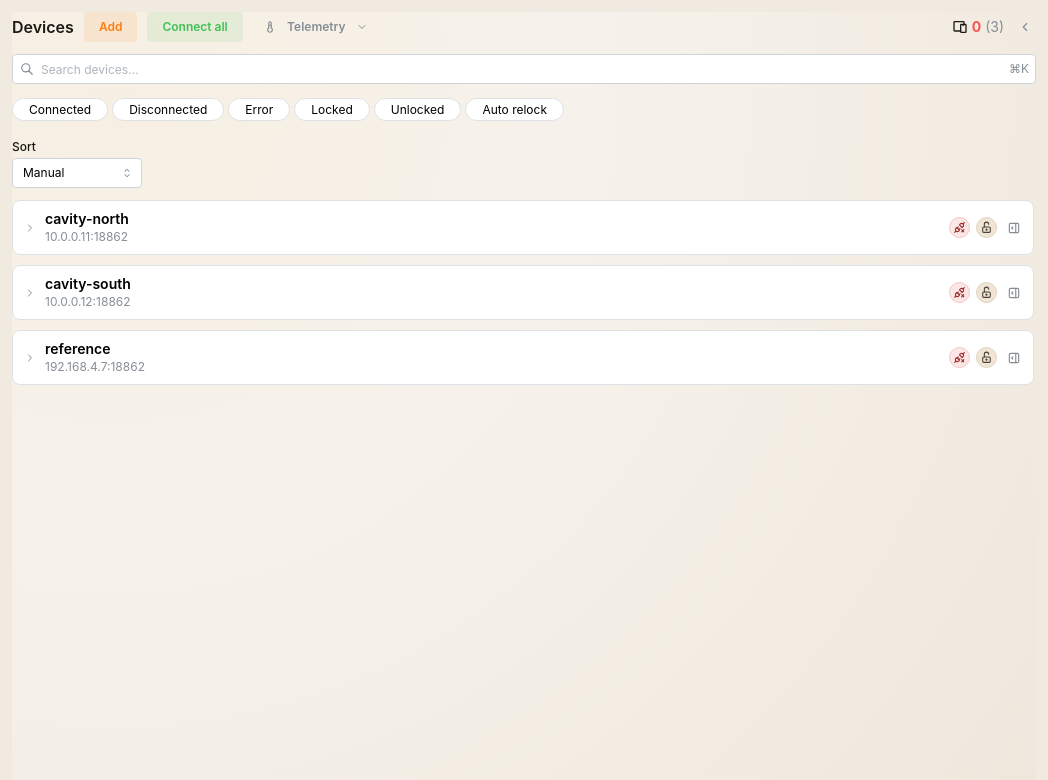
DeviceList search and rows › reports how many of the fleet survived the filter
This screenshot has width=1048, height=780.
Type "cavity" into the field labelled "Search devices" at (524, 69), box [12,54,1036,84]
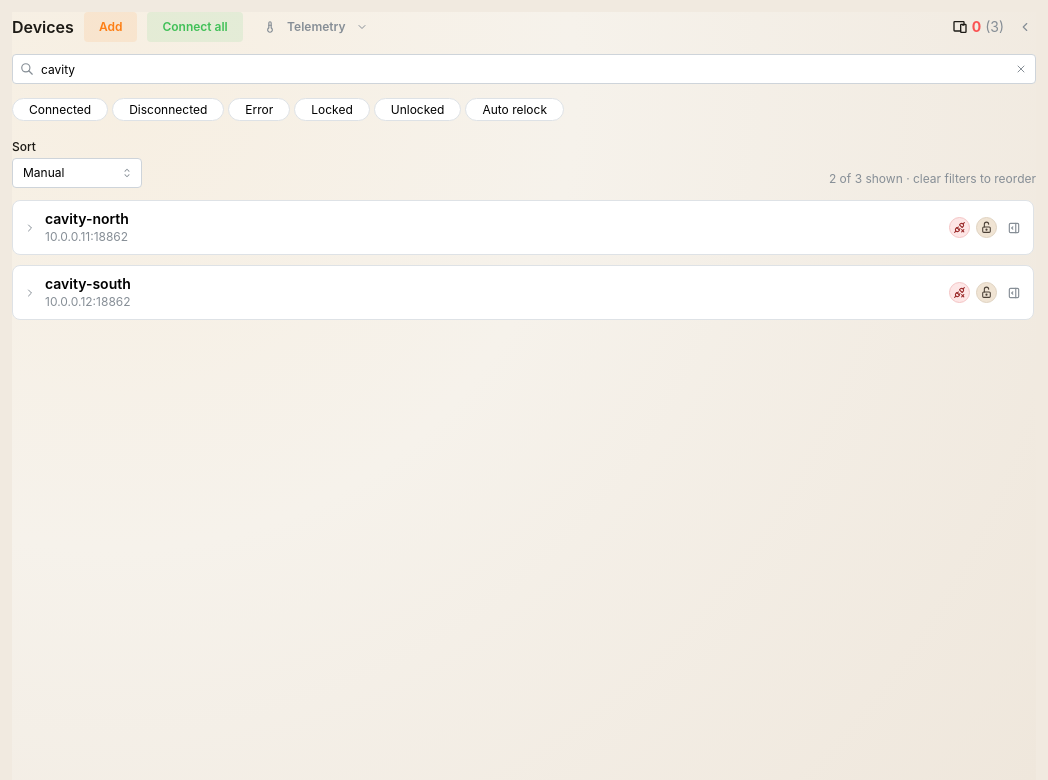
Result: the text "2 of 3 shown · clear filters to reorder" is shown at [829,171,1036,188]
